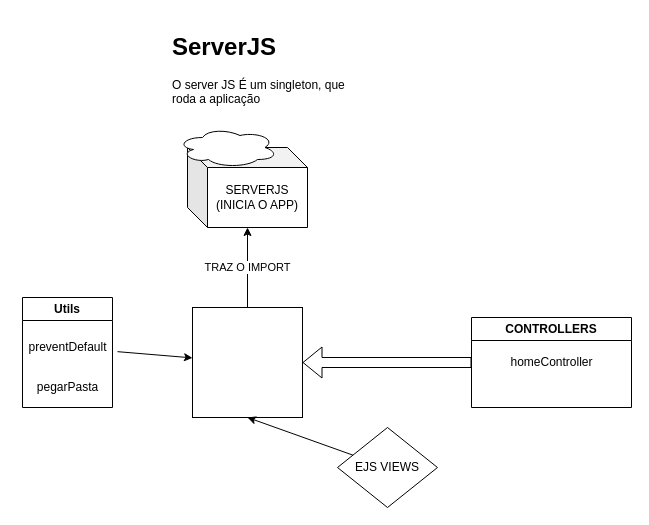
The diagram is 649 pixels wide and 525 high, and some of its shapes have lost their labels. The shapes that lost their labels are listed below. From the top down, each one's centre as x and y in pixels, then its label:
At point (227, 147): "NODEMON".
At point (247, 362): "APPLICATION.JS (GERENCIAR ROTAS)".
